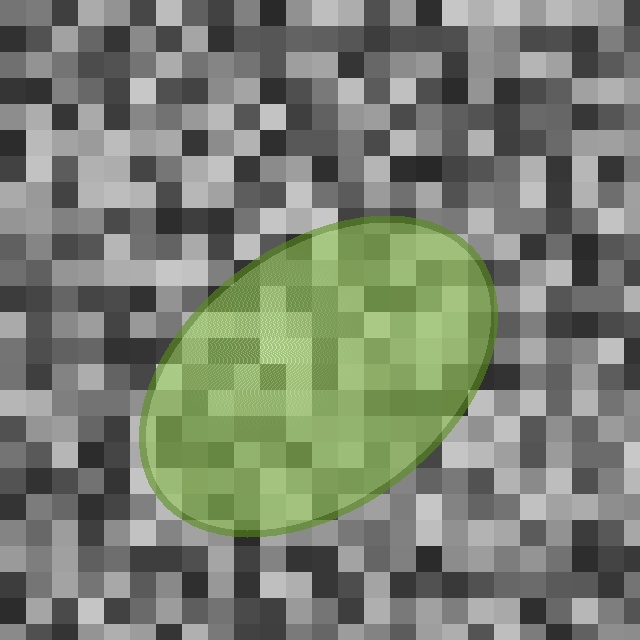lens: (142, 219, 494, 533)
